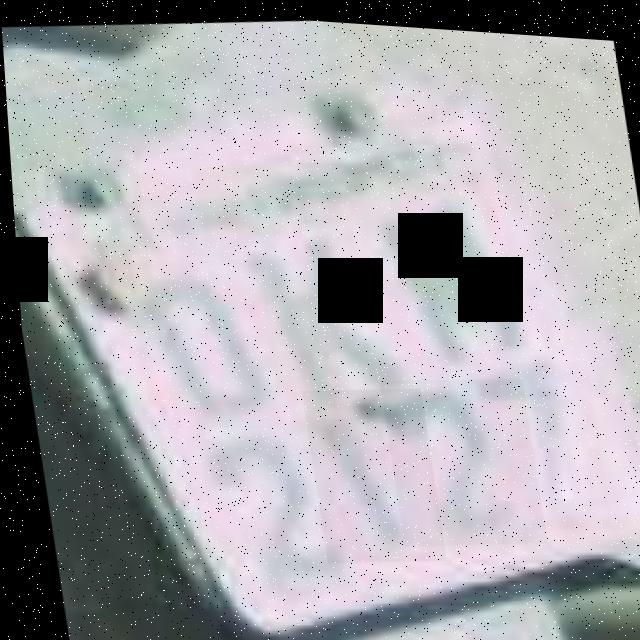2: (188, 404, 379, 615), (374, 363, 541, 548)
7: (449, 345, 606, 531), (295, 376, 440, 565)
O: (122, 248, 282, 435)
